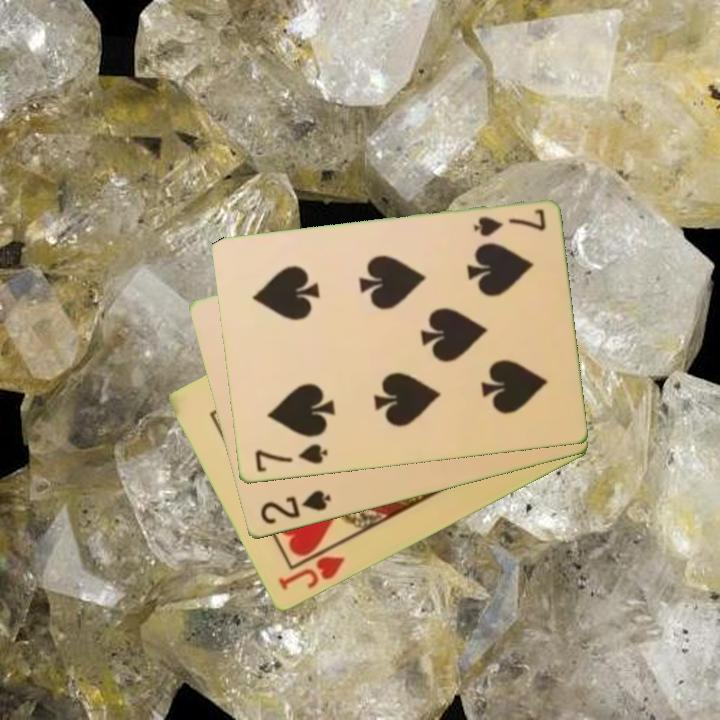2s: (256, 486, 334, 528)
7s: (251, 441, 331, 476), (469, 206, 549, 240)
Jh: (274, 553, 348, 594)
